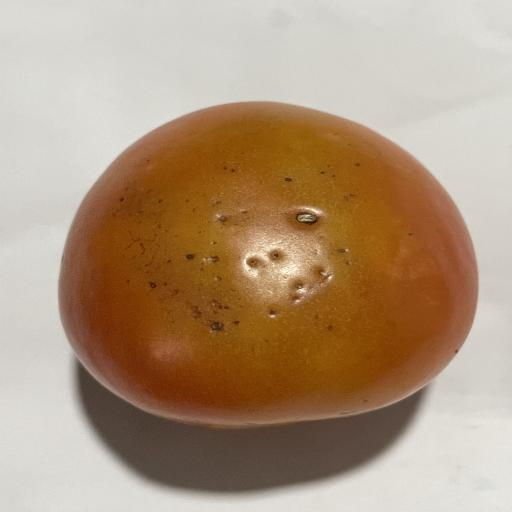unripe: (59, 102, 477, 428)
